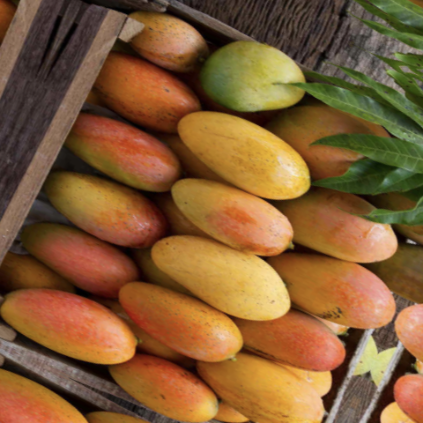mango: (125, 204, 313, 347), (158, 89, 335, 222), (34, 92, 208, 217), (0, 261, 162, 392), (100, 264, 258, 389), (252, 221, 408, 347), (162, 318, 339, 423), (165, 159, 316, 275), (183, 11, 321, 132), (18, 204, 163, 315), (88, 330, 232, 423)
